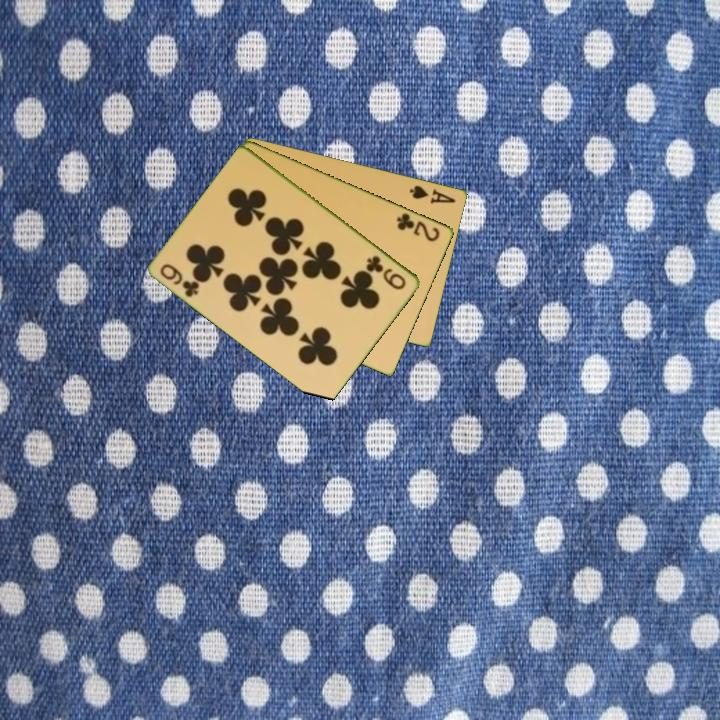2c: (393, 209, 443, 245)
9c: (363, 252, 409, 293), (157, 260, 203, 300)
As: (406, 182, 459, 206)
